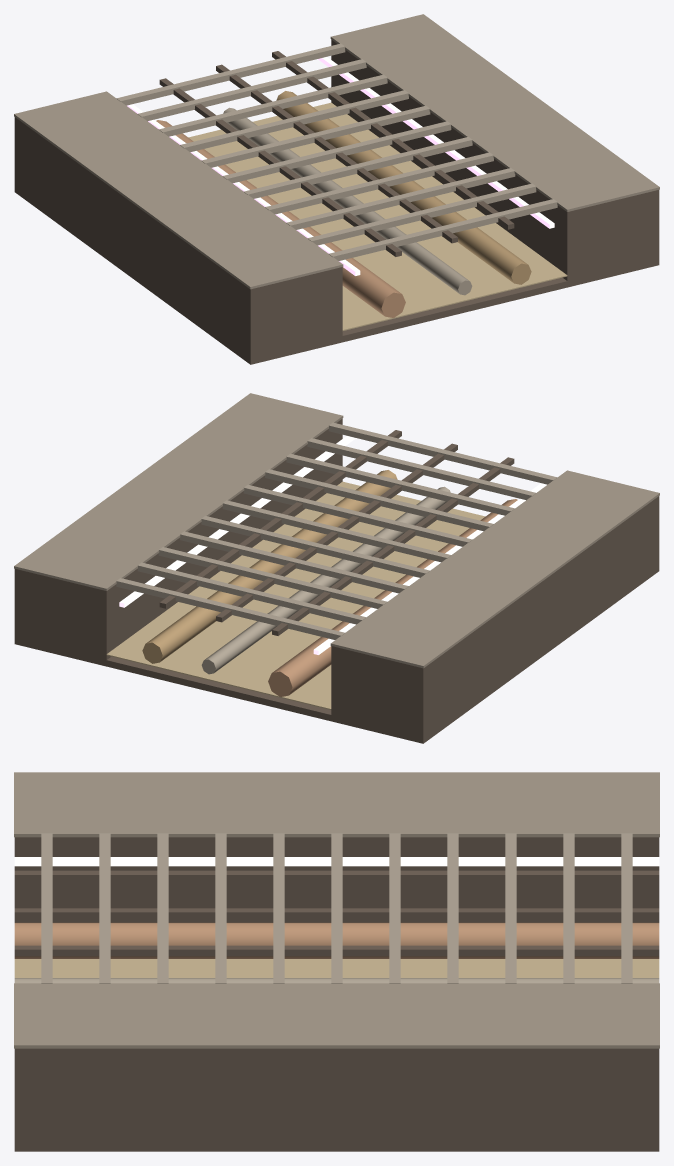
File: floor_du_grate.glb
The picture shows the model from 3 angles, top to bottom: view 1: azimuth 30°, elevation 25°; view 2: azimuth 150°, elevation 25°; view 3: azimuth 270°, elevation 25°; orthographic projection. The views are drawn at different scales.
Parts seen in each view (by area): view 1: floor_du_grate; view 2: floor_du_grate; view 3: floor_du_grate.
Part boxes in pixels (bbox=[...]): floor_du_grate: bbox=[14, 14, 659, 364]; floor_du_grate: bbox=[14, 393, 659, 743]; floor_du_grate: bbox=[14, 772, 659, 1151].
Bounding box in the file's own units: 4.01 × 0.734 × 4.01.
